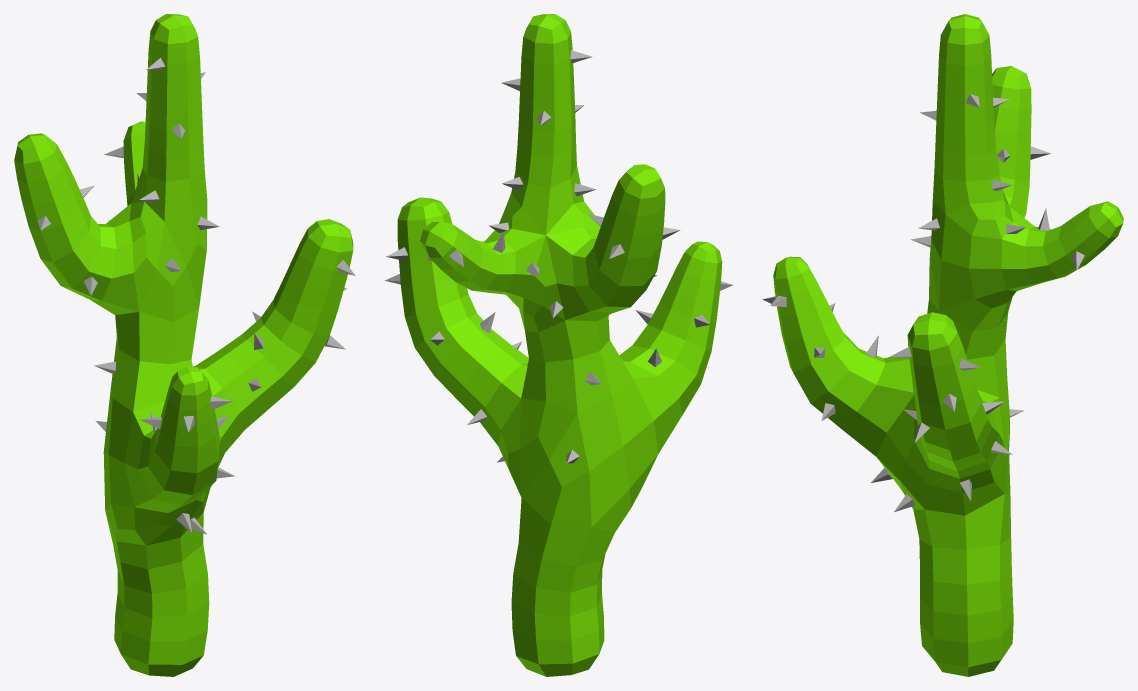
The model's file is cactus2.fbx.
3 views of the same model, side by side, from view 1: azimuth 30°, elevation 25°; view 2: azimuth 150°, elevation 25°; view 3: azimuth 270°, elevation 25° (orthographic).
Visible parts, largest first — view 1: cactus2, Cone.038; view 2: cactus2, Cone.038; view 3: cactus2, Cone.038.
Part boxes in pixels (<box>): cactus2: <box>14,14,353,676</box>; Cone.038: <box>37,58,355,534</box>; cactus2: <box>397,14,722,676</box>; Cone.038: <box>385,50,732,463</box>; cactus2: <box>773,14,1123,676</box>; Cone.038: <box>762,94,1084,511</box>.
Bounding box in the file's own units: 120 × 247 × 123.
